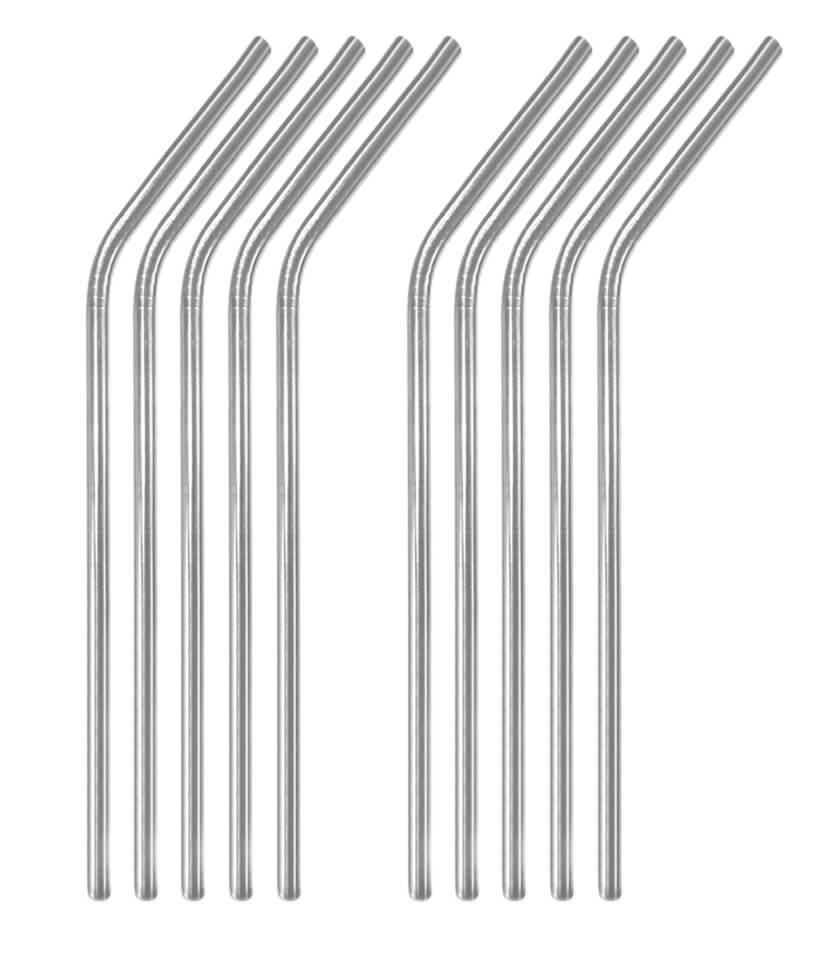Drinking Straw: (78, 33, 274, 905)
